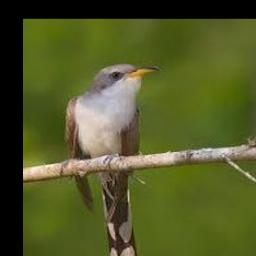Cuckoo: (64, 63, 160, 256)
